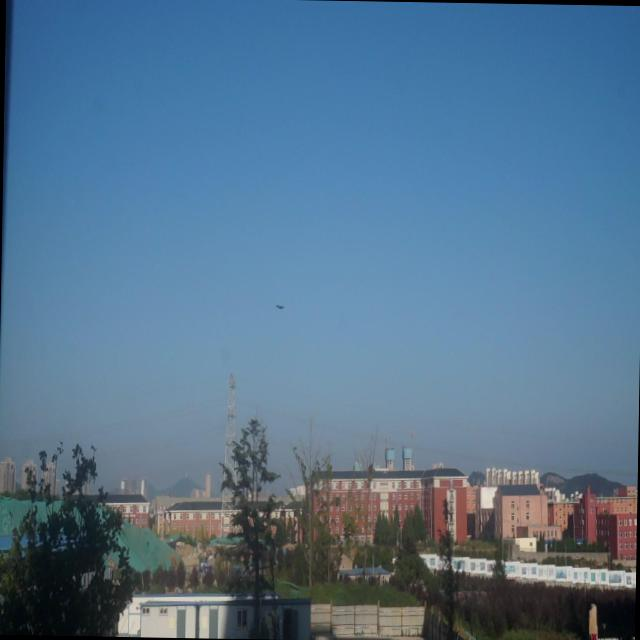drone: (272, 299, 284, 314)
